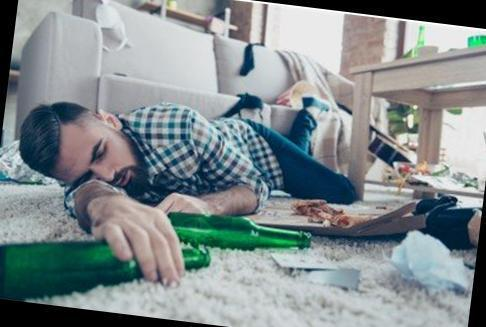Drunk: (54, 125, 138, 189)
